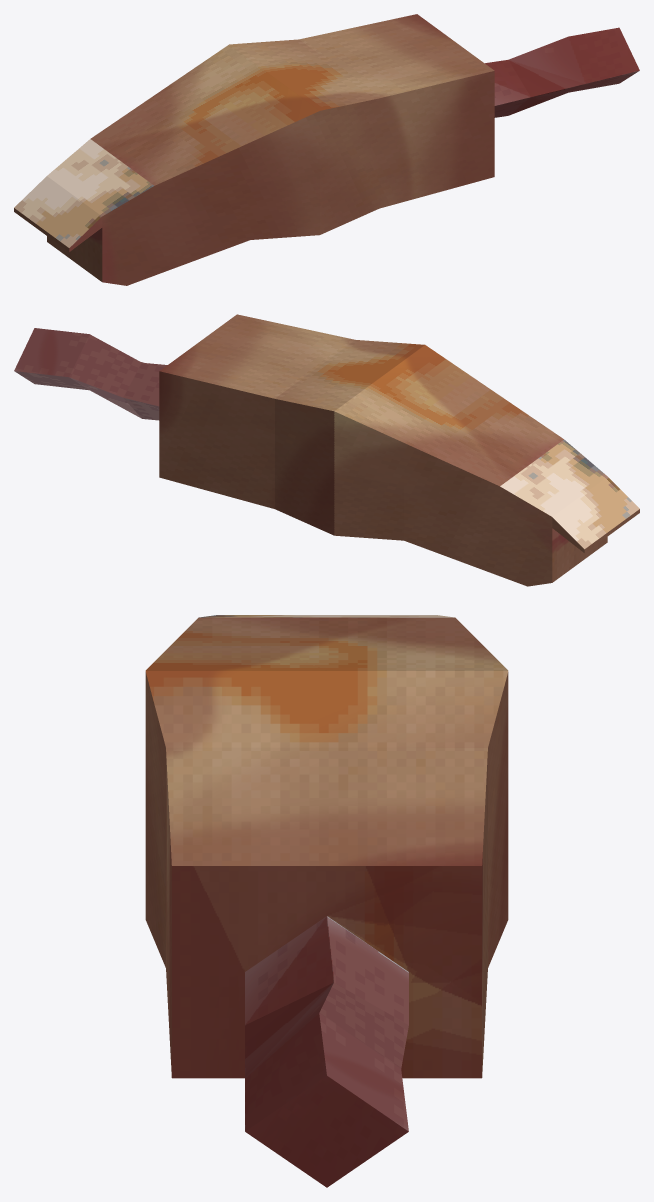
Rendered from Dito.fbx.
3 renders of one model, top to bottom at view 1: azimuth 30°, elevation 25°; view 2: azimuth 150°, elevation 25°; view 3: azimuth 270°, elevation 25°, orthographic. The views are drawn at different scales.
Visible parts, largest first — view 1: Cube.078; view 2: Cube.078; view 3: Cube.078.
Boxes of the visible parts, x1,y1,x2,y2 form: Cube.078: (14,14,639,285); Cube.078: (14,314,639,586); Cube.078: (145,615,508,1187).
Size of the model in its own units: 0.0444 by 0.0105 by 0.0121.
3 materials, 3 textured.
